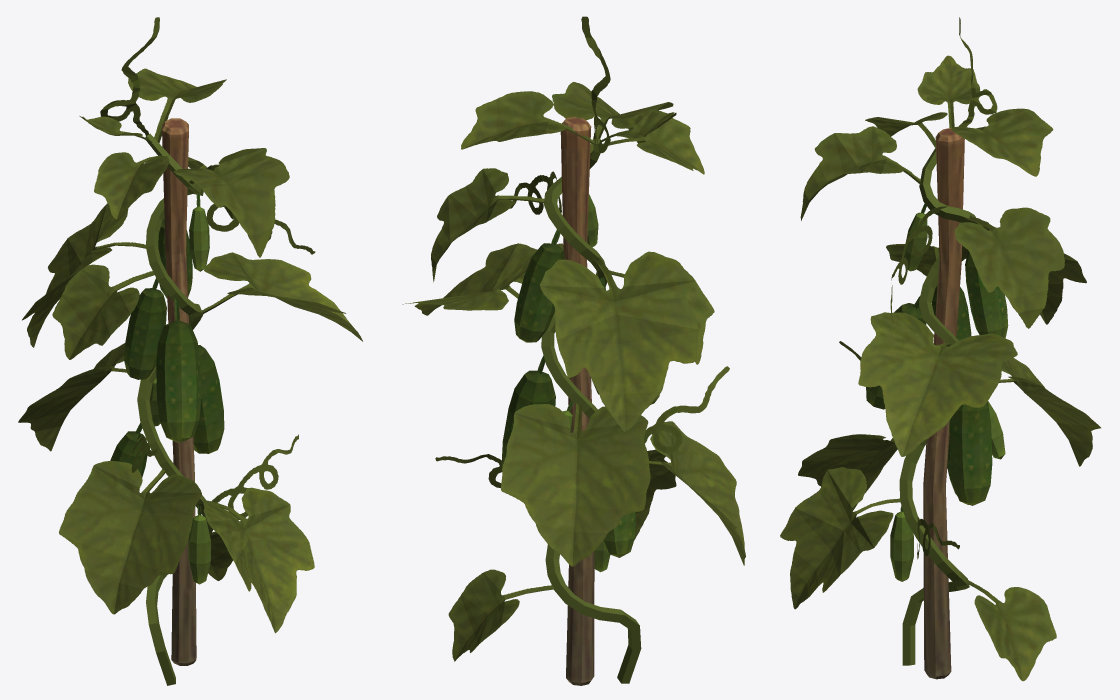
The model's file is Cucumber_03.obj.
3 views of the same model, side by side, from view 1: azimuth 30°, elevation 25°; view 2: azimuth 150°, elevation 25°; view 3: azimuth 270°, elevation 25° (orthographic). The views are drawn at different scales.
Bounding box in the file's own units: 0.6759 × 1.37 × 0.6233.
Materials: 1 (1 with a texture image).
